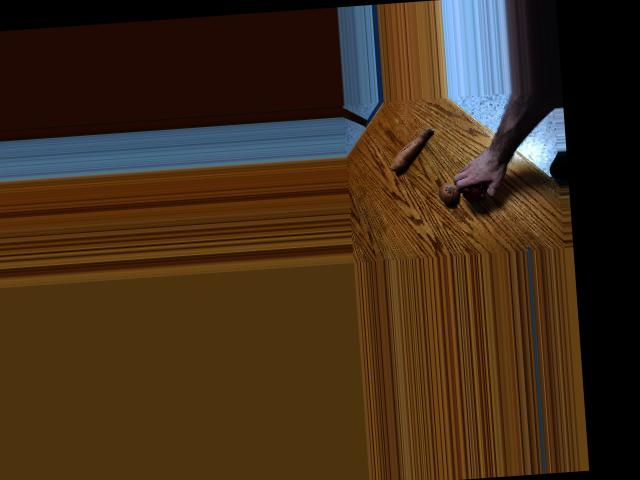onion: (439, 182, 463, 206)
